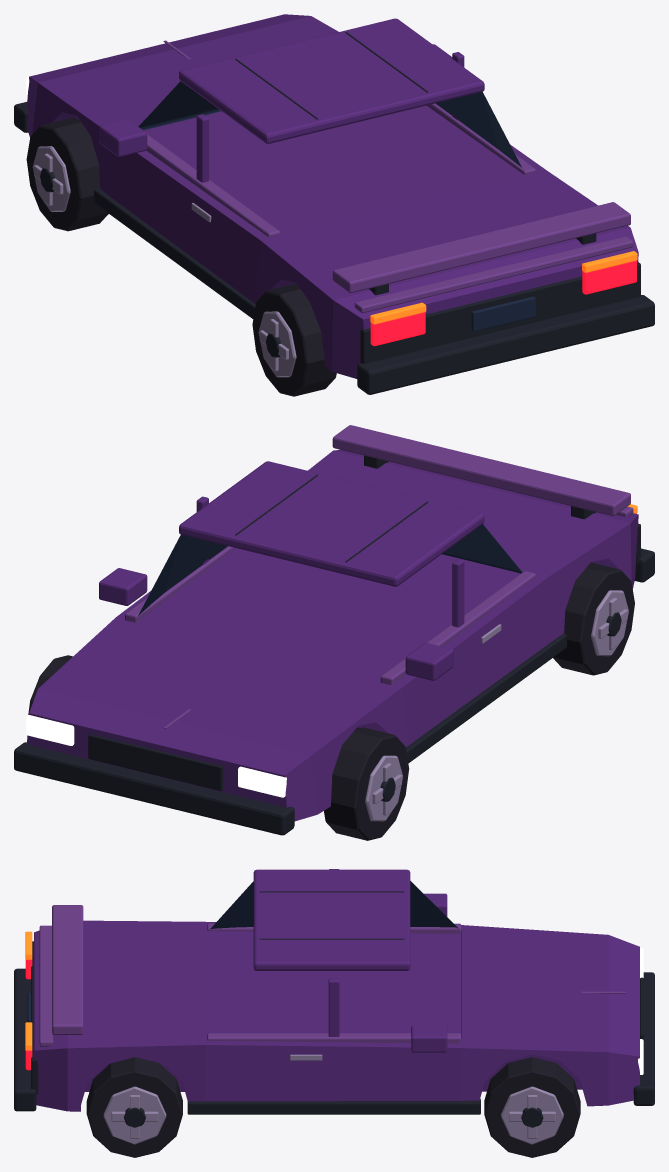
File: quattro-car.glb
3 renders of one model, top to bottom at view 1: azimuth 30°, elevation 25°; view 2: azimuth 150°, elevation 25°; view 3: azimuth 270°, elevation 25°, orthographic. The views are drawn at different scales.
Visible parts, largest first — view 1: Broad_shouldered_body, Low_roof, Rear_bumper, Rear_spoiler, Rear_valance, wheel_FL_Tire, wheel_RL_Tire, Continuous_glass_cabin, Trunk_lip, Rocker_trim, Side_beltline, Mirror (+9 smaller); view 2: Broad_shouldered_body, Low_roof, Front_bumper, Rear_spoiler, wheel_FL_Tire, wheel_RL_Tire, Continuous_glass_cabin, Front_grille, Rocker_trim, Side_beltline, Mirror, Mirror.001 (+6 smaller); view 3: Broad_shouldered_body, Low_roof, wheel_FR_Tire, wheel_RR_Tire, Rear_spoiler, Rocker_trim.001, Continuous_glass_cabin, Rear_bumper, Side_beltline.001, wheel_FR_Rim, wheel_RR_Rim, Front_bumper (+5 smaller).
Part boxes in pixels (x1,y1,x2,y2): Broad_shouldered_body: [27, 14, 638, 378]; Low_roof: [179, 18, 484, 143]; Rear_bumper: [357, 295, 654, 394]; Rear_spoiler: [332, 202, 630, 292]; Rear_valance: [360, 262, 640, 363]; wheel_FL_Tire: [26, 118, 108, 231]; wheel_RL_Tire: [252, 283, 336, 396]; Continuous_glass_cabin: [138, 81, 521, 167]; Trunk_lip: [354, 236, 633, 313]; Rocker_trim: [94, 188, 255, 318]; Side_beltline: [146, 134, 280, 236]; Mirror: [99, 119, 147, 156]; Broad_shouldered_body: [27, 449, 638, 821]; Low_roof: [179, 461, 484, 586]; Front_bumper: [14, 742, 294, 835]; Rear_spoiler: [332, 425, 630, 515]; wheel_FL_Tire: [324, 727, 409, 840]; wheel_RL_Tire: [553, 562, 634, 675]; Continuous_glass_cabin: [138, 524, 522, 615]; Front_grille: [88, 734, 222, 790]; Rocker_trim: [405, 633, 566, 763]; Side_beltline: [380, 571, 535, 685]; Mirror: [405, 643, 453, 680]; Mirror.001: [99, 568, 147, 605]; Broad_shouldered_body: [34, 920, 639, 1111]; Low_roof: [253, 869, 410, 970]; wheel_FR_Tire: [484, 1057, 580, 1157]; wheel_RR_Tire: [86, 1057, 182, 1157]; Rear_spoiler: [52, 905, 83, 1034]; Rocker_trim.001: [187, 1098, 480, 1114]; Continuous_glass_cabin: [209, 881, 461, 1038]; Rear_bumper: [14, 968, 36, 1111]; Side_beltline.001: [207, 1033, 461, 1043]; wheel_FR_Rim: [501, 1086, 563, 1144]; wheel_RR_Rim: [103, 1086, 166, 1144]; Front_bumper: [633, 972, 654, 1105].
Size of the model in its own units: 3.12 by 1.7 by 5.72.
